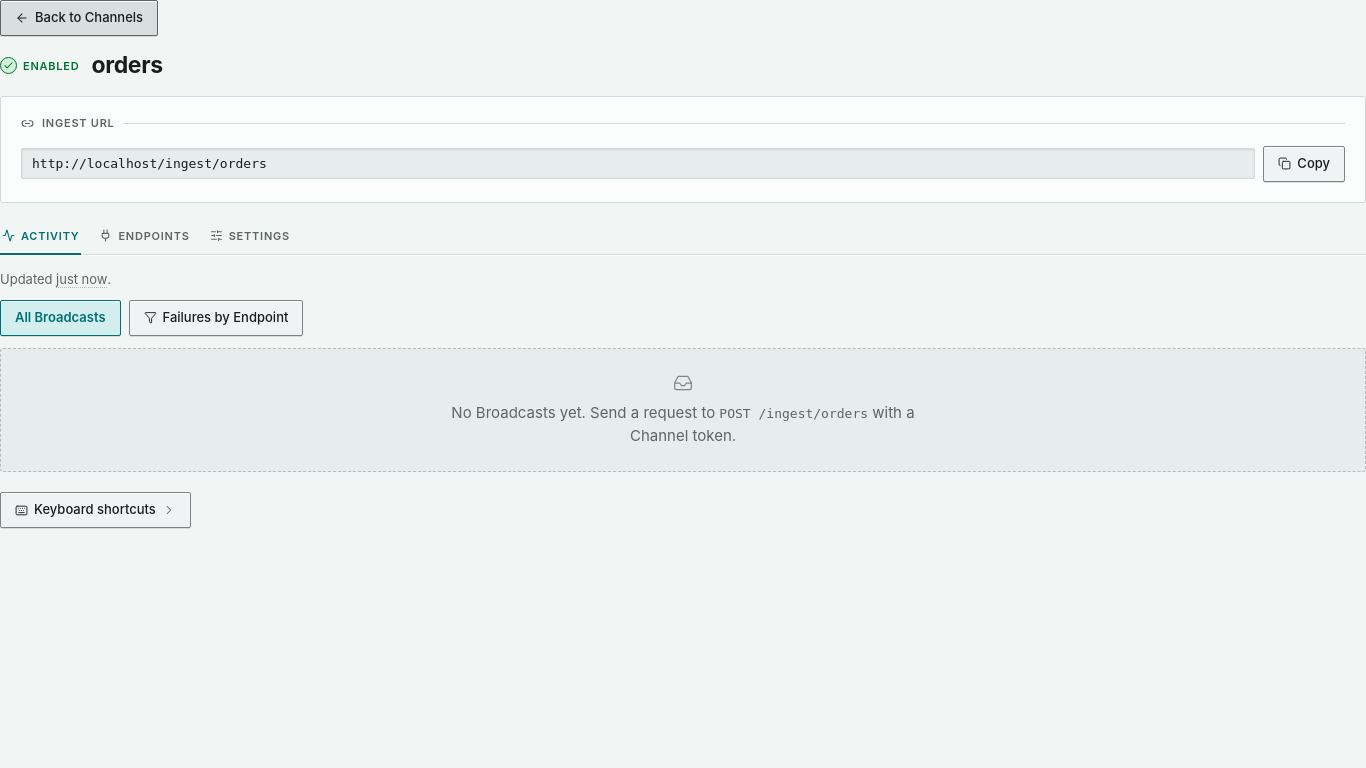
Test case: ChannelDetailPage — Activity tab and ingest tokens › dismisses token revoke confirmation and leaves token untouched
Click the link "Settings": (250,236) [210, 229, 290, 243]
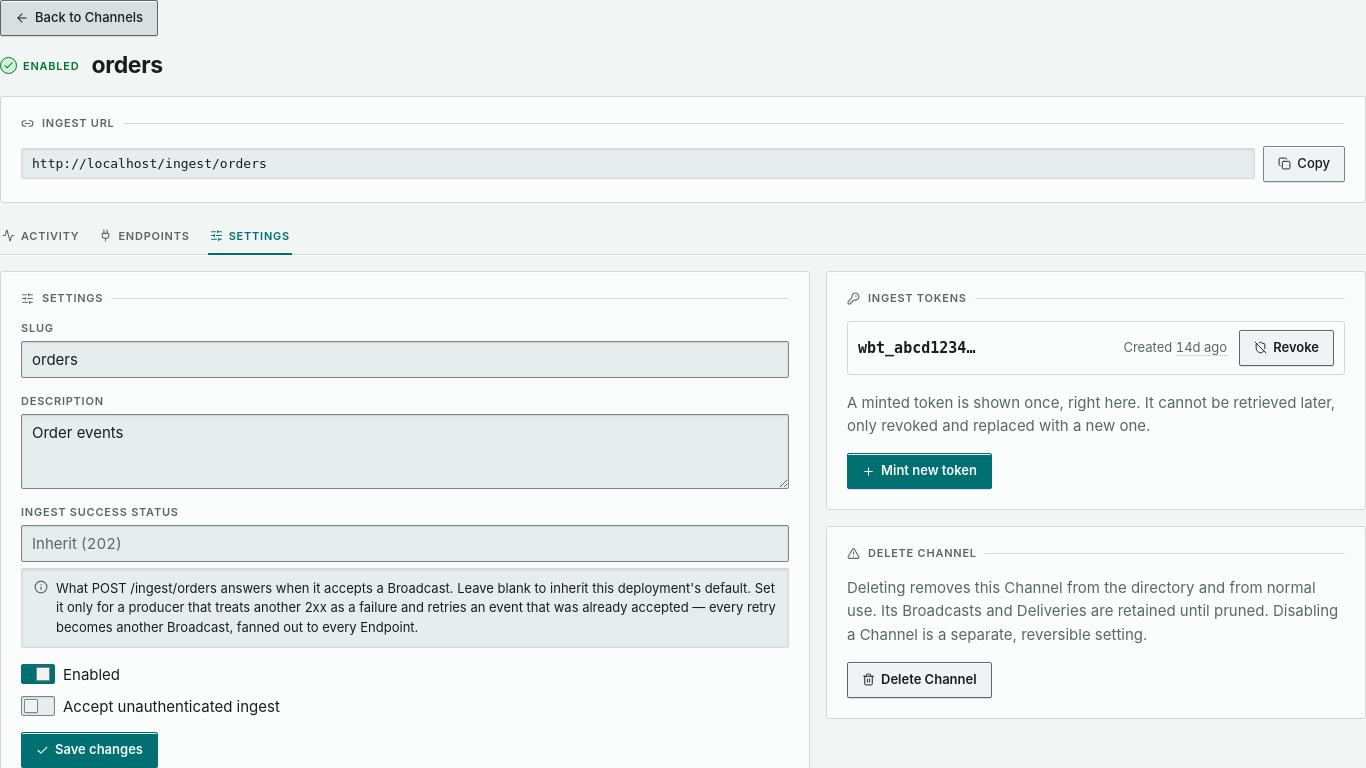
Click the button "Revoke": (1287,348) [1239, 330, 1334, 366]
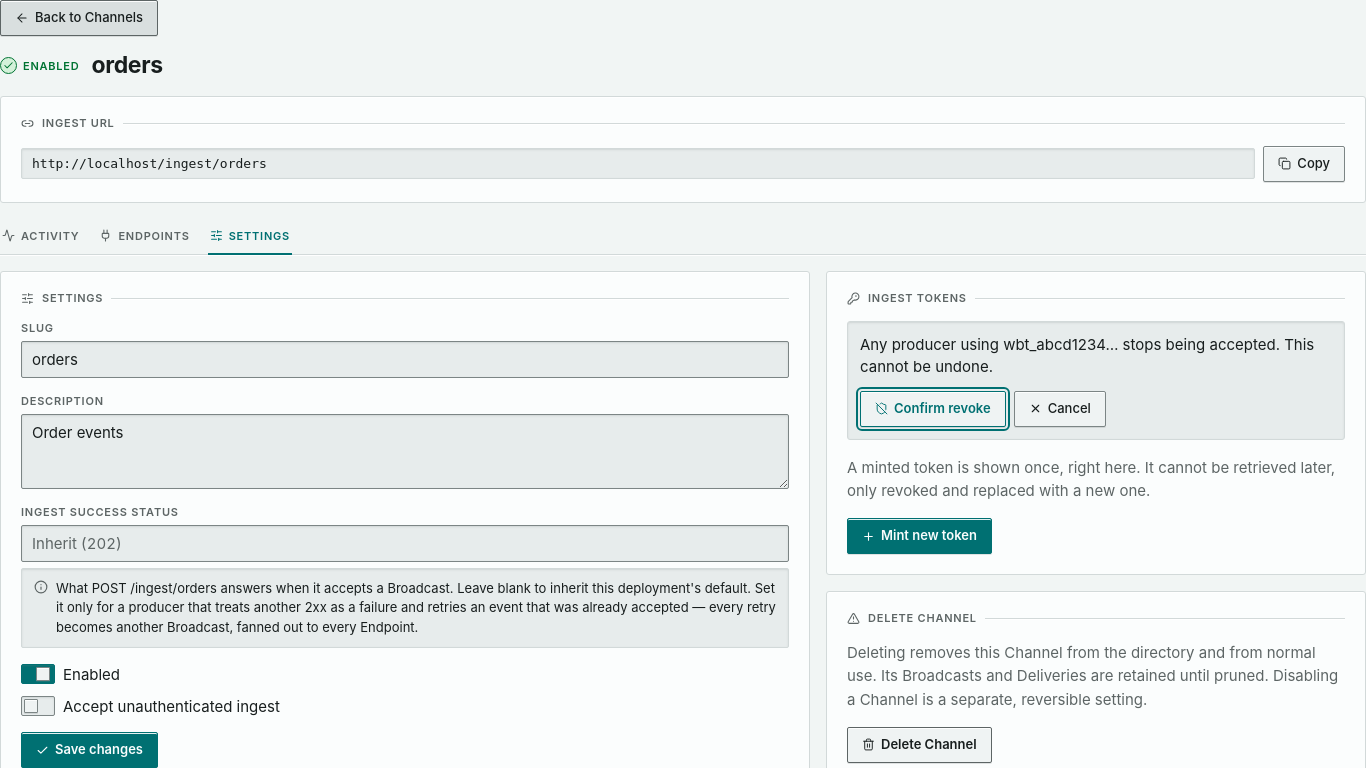
Note: Cancel the revoke
Click the button "Cancel": (1060,409) [1014, 391, 1106, 427]
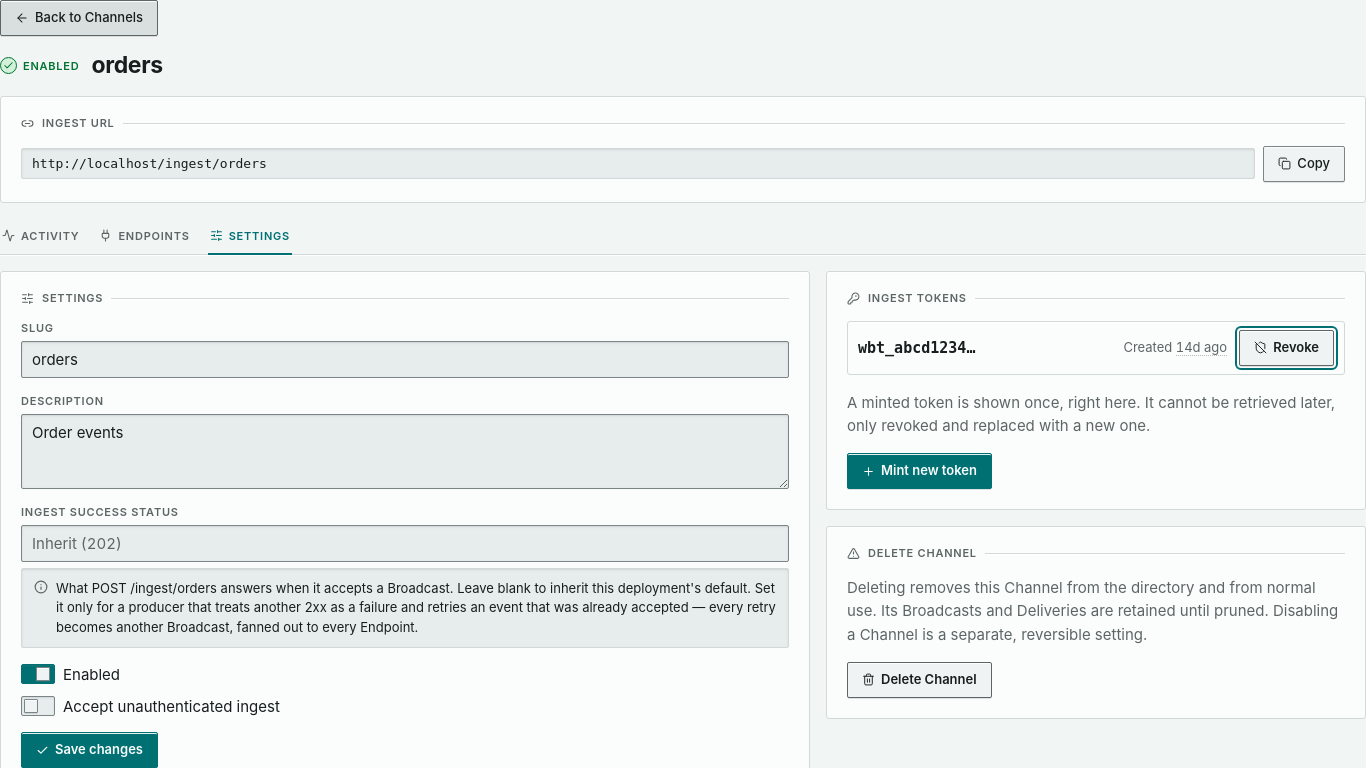
Now the button "Revoke" is shown, box [1239, 330, 1334, 366]
Now the text "wbt_abcd1234…" is shown, box [858, 339, 975, 357]
Now the button "Confirm revoke" is gone
